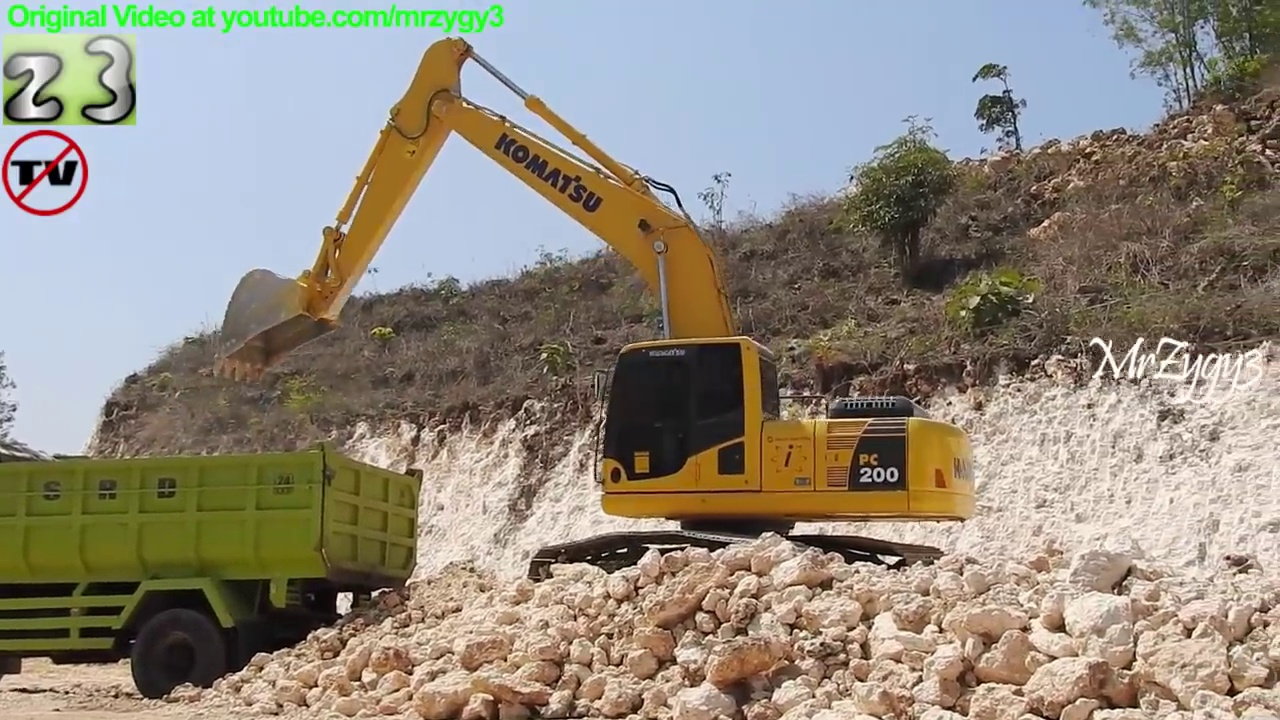excavator: (207, 33, 985, 612)
truck: (1, 439, 430, 703)
